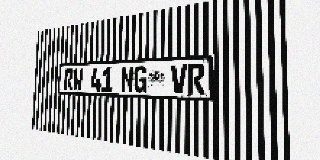1: (101, 67, 113, 92)
4: (90, 68, 101, 91)
G: (133, 66, 147, 93)
N: (121, 66, 134, 92)
R: (187, 64, 205, 94), (64, 69, 74, 91)
V: (171, 64, 187, 94)
W: (73, 68, 83, 91)
